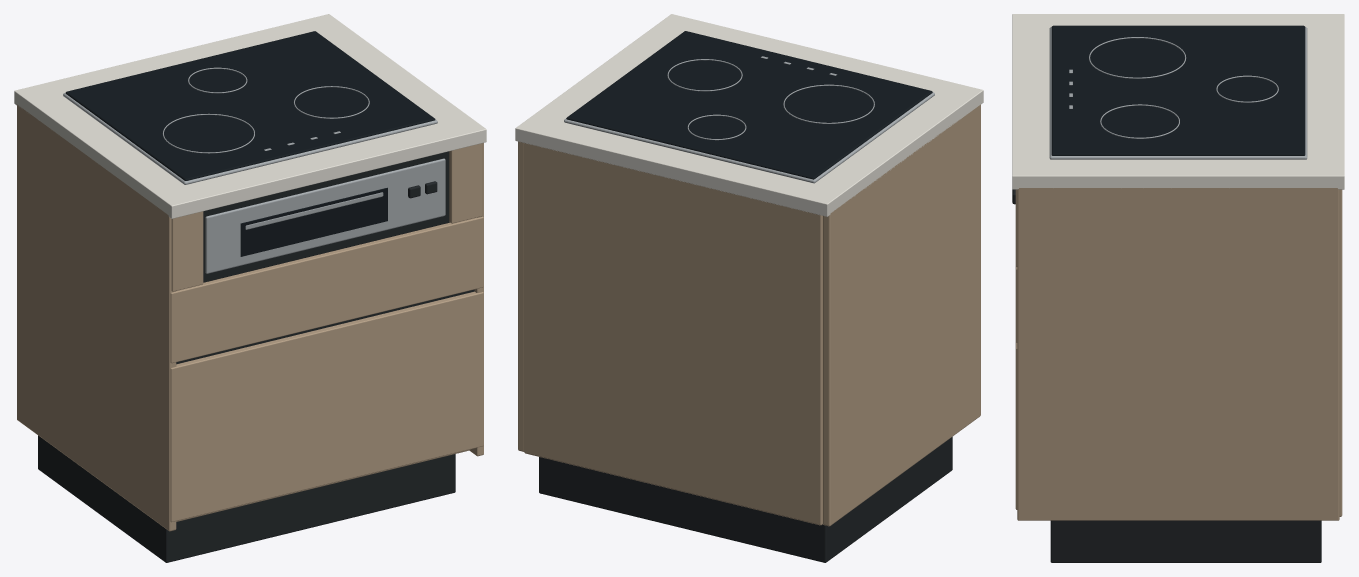
Rendered from original-kitchen-box-hob750.glb.
3 renders of one model, left to right at view 1: azimuth 30°, elevation 25°; view 2: azimuth 150°, elevation 25°; view 3: azimuth 270°, elevation 25°, orthographic. The views are drawn at different scales.
Parts seen in each view (by area): view 1: original-kitchen-box-hob750; view 2: original-kitchen-box-hob750; view 3: original-kitchen-box-hob750.
Boxes of the visible parts, x1,y1,x2,y2 form: original-kitchen-box-hob750: [14, 14, 486, 562]; original-kitchen-box-hob750: [515, 14, 983, 562]; original-kitchen-box-hob750: [1012, 14, 1344, 562].
Size of the model in its own units: 0.75 by 0.8635 by 0.65.
